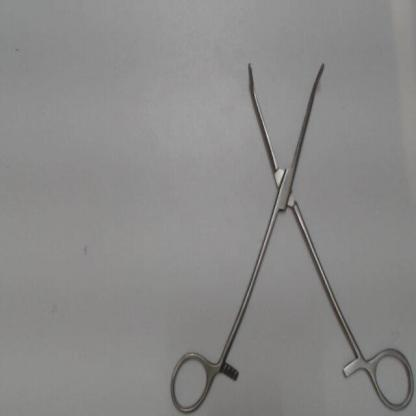Lahey Forceps: (166, 53, 415, 414)
